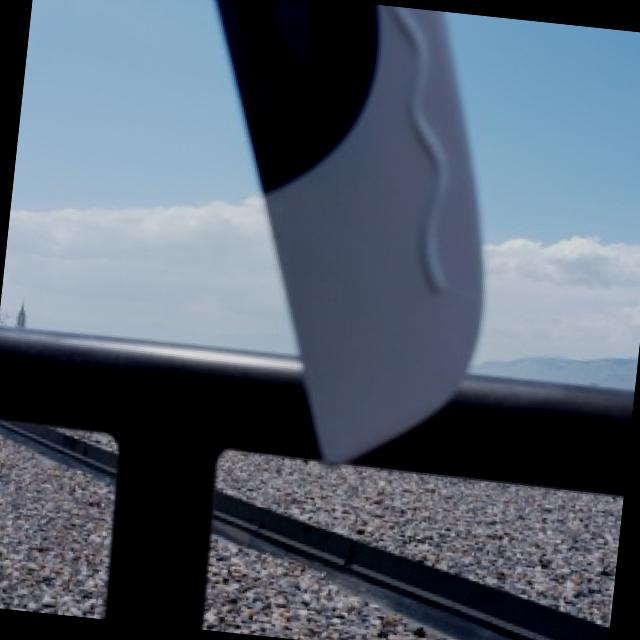healthy: (0, 0, 632, 627), (466, 32, 640, 158)
